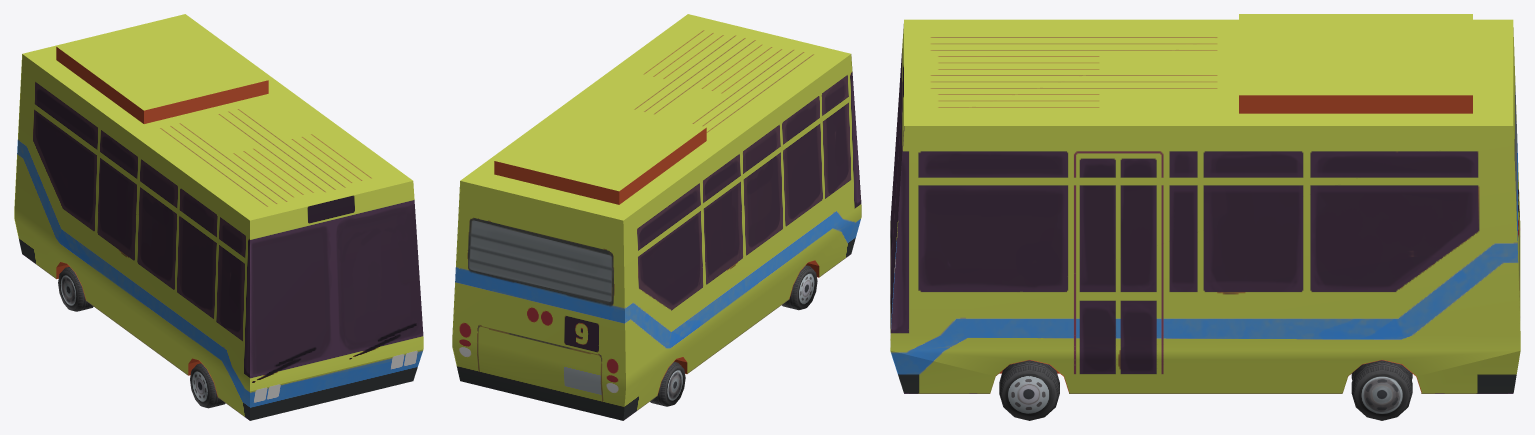
Rendered from green_bus.glb.
The picture shows the model from 3 angles, left to right: view 1: azimuth 30°, elevation 25°; view 2: azimuth 150°, elevation 25°; view 3: azimuth 270°, elevation 25°; orthographic projection. The views are drawn at different scales.
Parts seen in each view (by area): view 1: bus, bus__0.003, bus__0.001, wheel_2, wheel_5; view 2: bus, bus__0.003, bus__0.001, wheel_5, wheel_2; view 3: bus__0.004, bus, bus__0.001, wheel_4, wheel_6.
Boxes of the visible parts, x1=… form: bus: x1=14, y1=14, x2=423, y2=420; bus__0.003: x1=14, y1=54, x2=249, y2=420; bus__0.001: x1=144, y1=93, x2=412, y2=220; wheel_2: x1=58, y1=267, x2=93, y2=311; wheel_5: x1=190, y1=363, x2=225, y2=408; bus: x1=452, y1=15, x2=861, y2=420; bus__0.003: x1=623, y1=54, x2=861, y2=420; bus__0.001: x1=594, y1=14, x2=850, y2=140; wheel_5: x1=782, y1=265, x2=817, y2=310; wheel_2: x1=650, y1=361, x2=685, y2=406; bus__0.004: x1=890, y1=126, x2=1520, y2=393; bus: x1=890, y1=14, x2=1520, y2=393; bus__0.001: x1=904, y1=19, x2=1238, y2=125; wheel_4: x1=1351, y1=360, x2=1412, y2=420; wheel_6: x1=999, y1=360, x2=1059, y2=420.
Size of the model in its own units: 2.53 by 3.27 by 5.96.
1 material, 1 textured.
